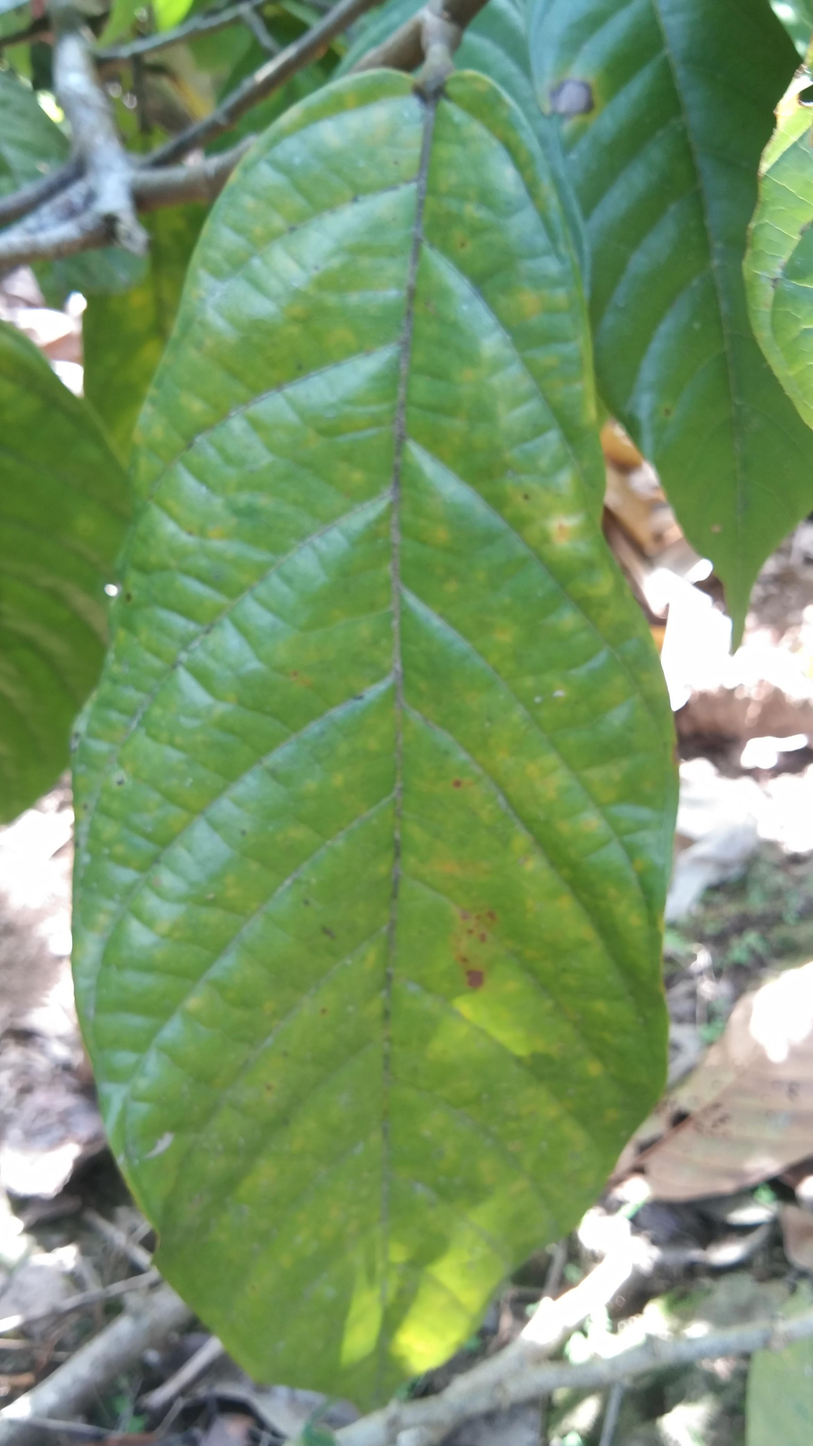deficiencia_potasio: (83, 59, 660, 1432)
